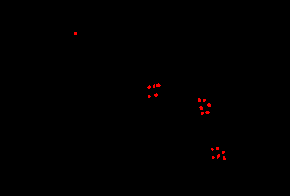Target: (156, 83, 161, 87), (147, 85, 151, 89), (154, 93, 158, 97), (207, 103, 211, 107), (199, 106, 203, 110), (205, 111, 210, 114), (217, 154, 220, 159), (198, 98, 201, 102), (223, 156, 226, 160), (74, 32, 77, 35), (148, 95, 151, 98), (203, 99, 206, 102), (201, 112, 204, 115), (216, 147, 219, 150), (211, 148, 214, 151), (222, 151, 225, 154), (212, 156, 215, 159), (153, 84, 155, 88)
